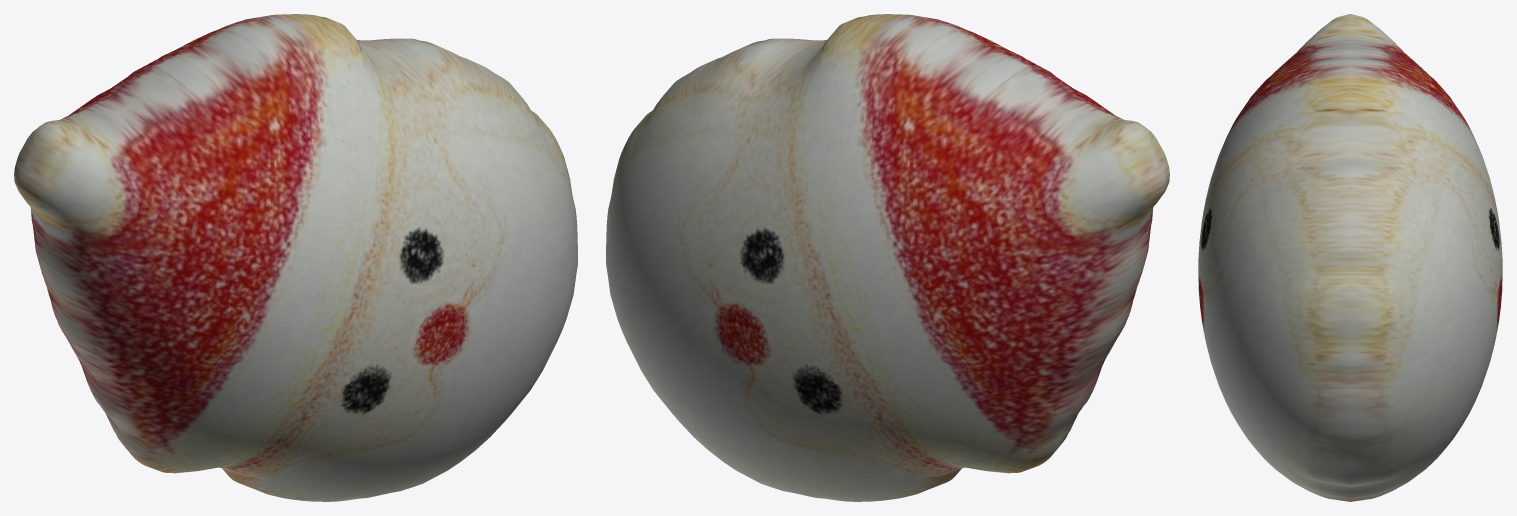
Rendered from 미니산타.glb.
3 views of the same model, side by side, from view 1: azimuth 30°, elevation 25°; view 2: azimuth 150°, elevation 25°; view 3: azimuth 270°, elevation 25° (orthographic). The views are drawn at different scales.
Size of the model in its own units: 3.51 by 2.96 by 2.12.
1 material, 1 textured.
